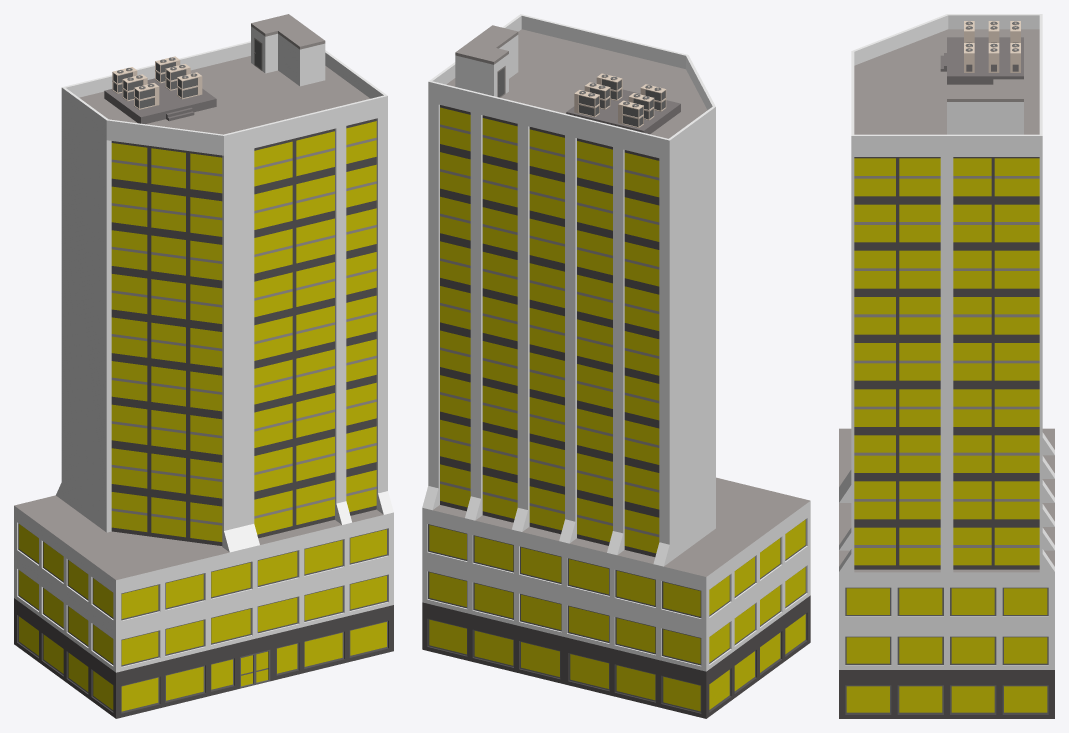
File: Building_14.fbx
The picture shows the model from 3 angles, left to right: view 1: azimuth 30°, elevation 25°; view 2: azimuth 150°, elevation 25°; view 3: azimuth 270°, elevation 25°; orthographic projection. The views are drawn at different scales.
Visible parts, largest first — view 1: building-office, building-office.001, building-office.002; view 2: building-office, building-office.001, building-office.002; view 3: building-office, building-office.002, building-office.001.
Part boxes in pixels (left/top/right/bottom): building-office: left=61, top=14, right=387, bottom=532; building-office.001: left=14, top=495, right=393, bottom=718; building-office.002: left=56, top=331, right=393, bottom=552; building-office: left=428, top=14, right=715, bottom=561; building-office.001: left=422, top=477, right=810, bottom=718; building-office.002: left=422, top=322, right=669, bottom=566; building-office: left=851, top=14, right=1042, bottom=572; building-office.002: left=839, top=380, right=1054, bottom=572; building-office.001: left=839, top=428, right=1054, bottom=718.
Bounding box in the file's own units: 6.76 × 13.44 × 4.3.
